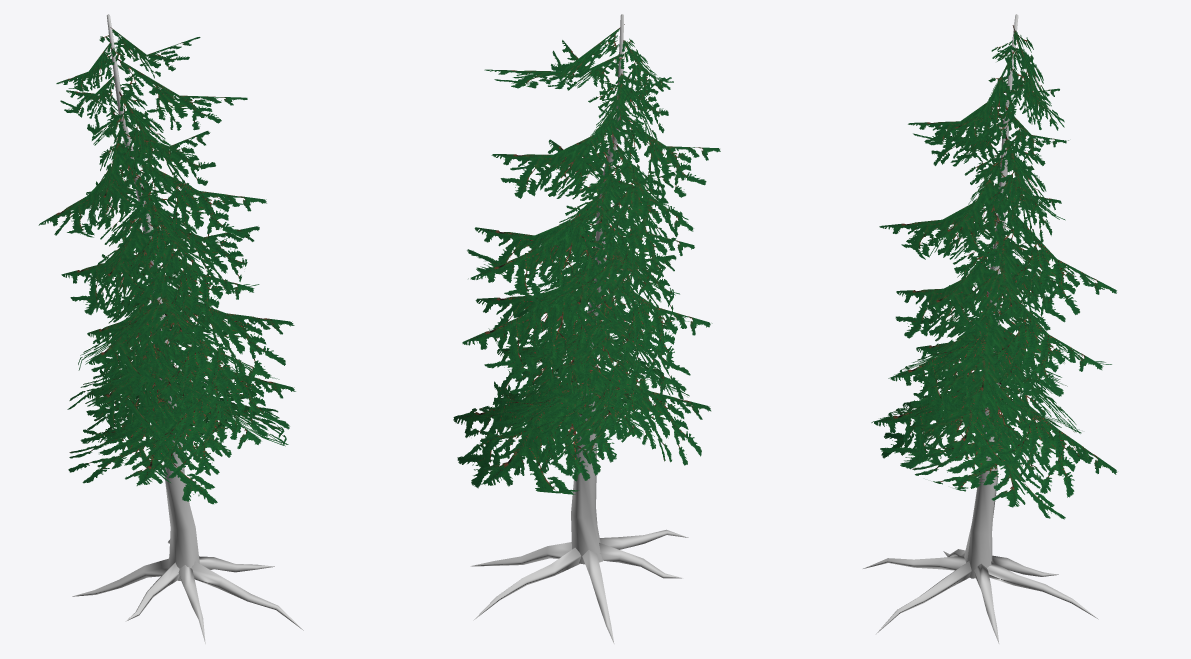
File: Pine_5_LOD1.fbx
3 renders of one model, left to right at view 1: azimuth 30°, elevation 25°; view 2: azimuth 150°, elevation 25°; view 3: azimuth 270°, elevation 25°, orthographic. The views are drawn at different scales.
Parts seen in each view (by area): view 1: Tree_1, Tree_0; view 2: Tree_1, Tree_0; view 3: Tree_1, Tree_0.
Part boxes in pixels (bbox=[...]): Tree_1: bbox=[38, 27, 295, 504]; Tree_0: bbox=[72, 14, 303, 643]; Tree_1: bbox=[453, 24, 720, 494]; Tree_0: bbox=[470, 14, 688, 643]; Tree_1: bbox=[871, 25, 1117, 519]; Tree_0: bbox=[863, 14, 1098, 643].
Bounding box in the file's own units: 158 × 303 × 177.
